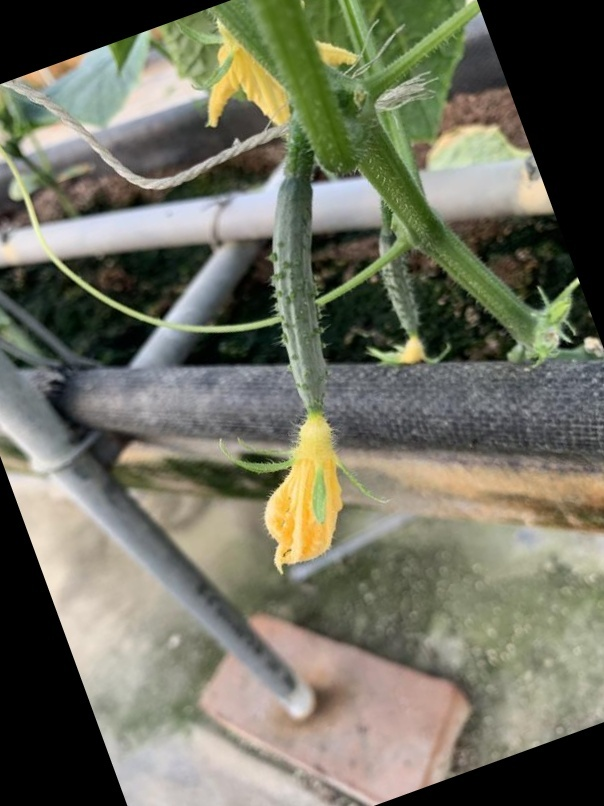bear: (214, 154, 381, 570)
